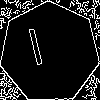I: (25, 27, 49, 75)
